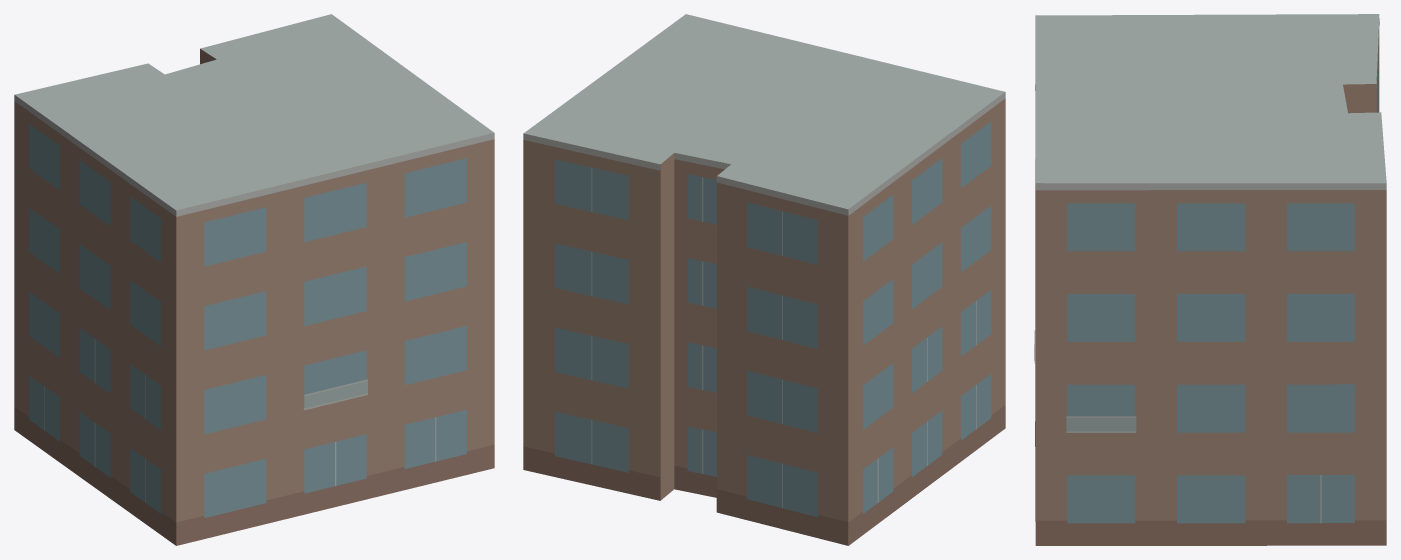
Rendered from survey-upis-32821668.glb.
The picture shows the model from 3 angles, left to right: view 1: azimuth 30°, elevation 25°; view 2: azimuth 150°, elevation 25°; view 3: azimuth 270°, elevation 25°; orthographic projection. The views are drawn at different scales.
Visible parts, largest first — view 1: survey-upis-32821668.tmp; view 2: survey-upis-32821668.tmp; view 3: survey-upis-32821668.tmp.
Boxes of the visible parts, <box> form: survey-upis-32821668.tmp: <box>14,14,494,545</box>; survey-upis-32821668.tmp: <box>523,14,1005,545</box>; survey-upis-32821668.tmp: <box>1034,14,1386,545</box>.
Size of the model in its own units: 12.97 by 12.9 by 11.38.
